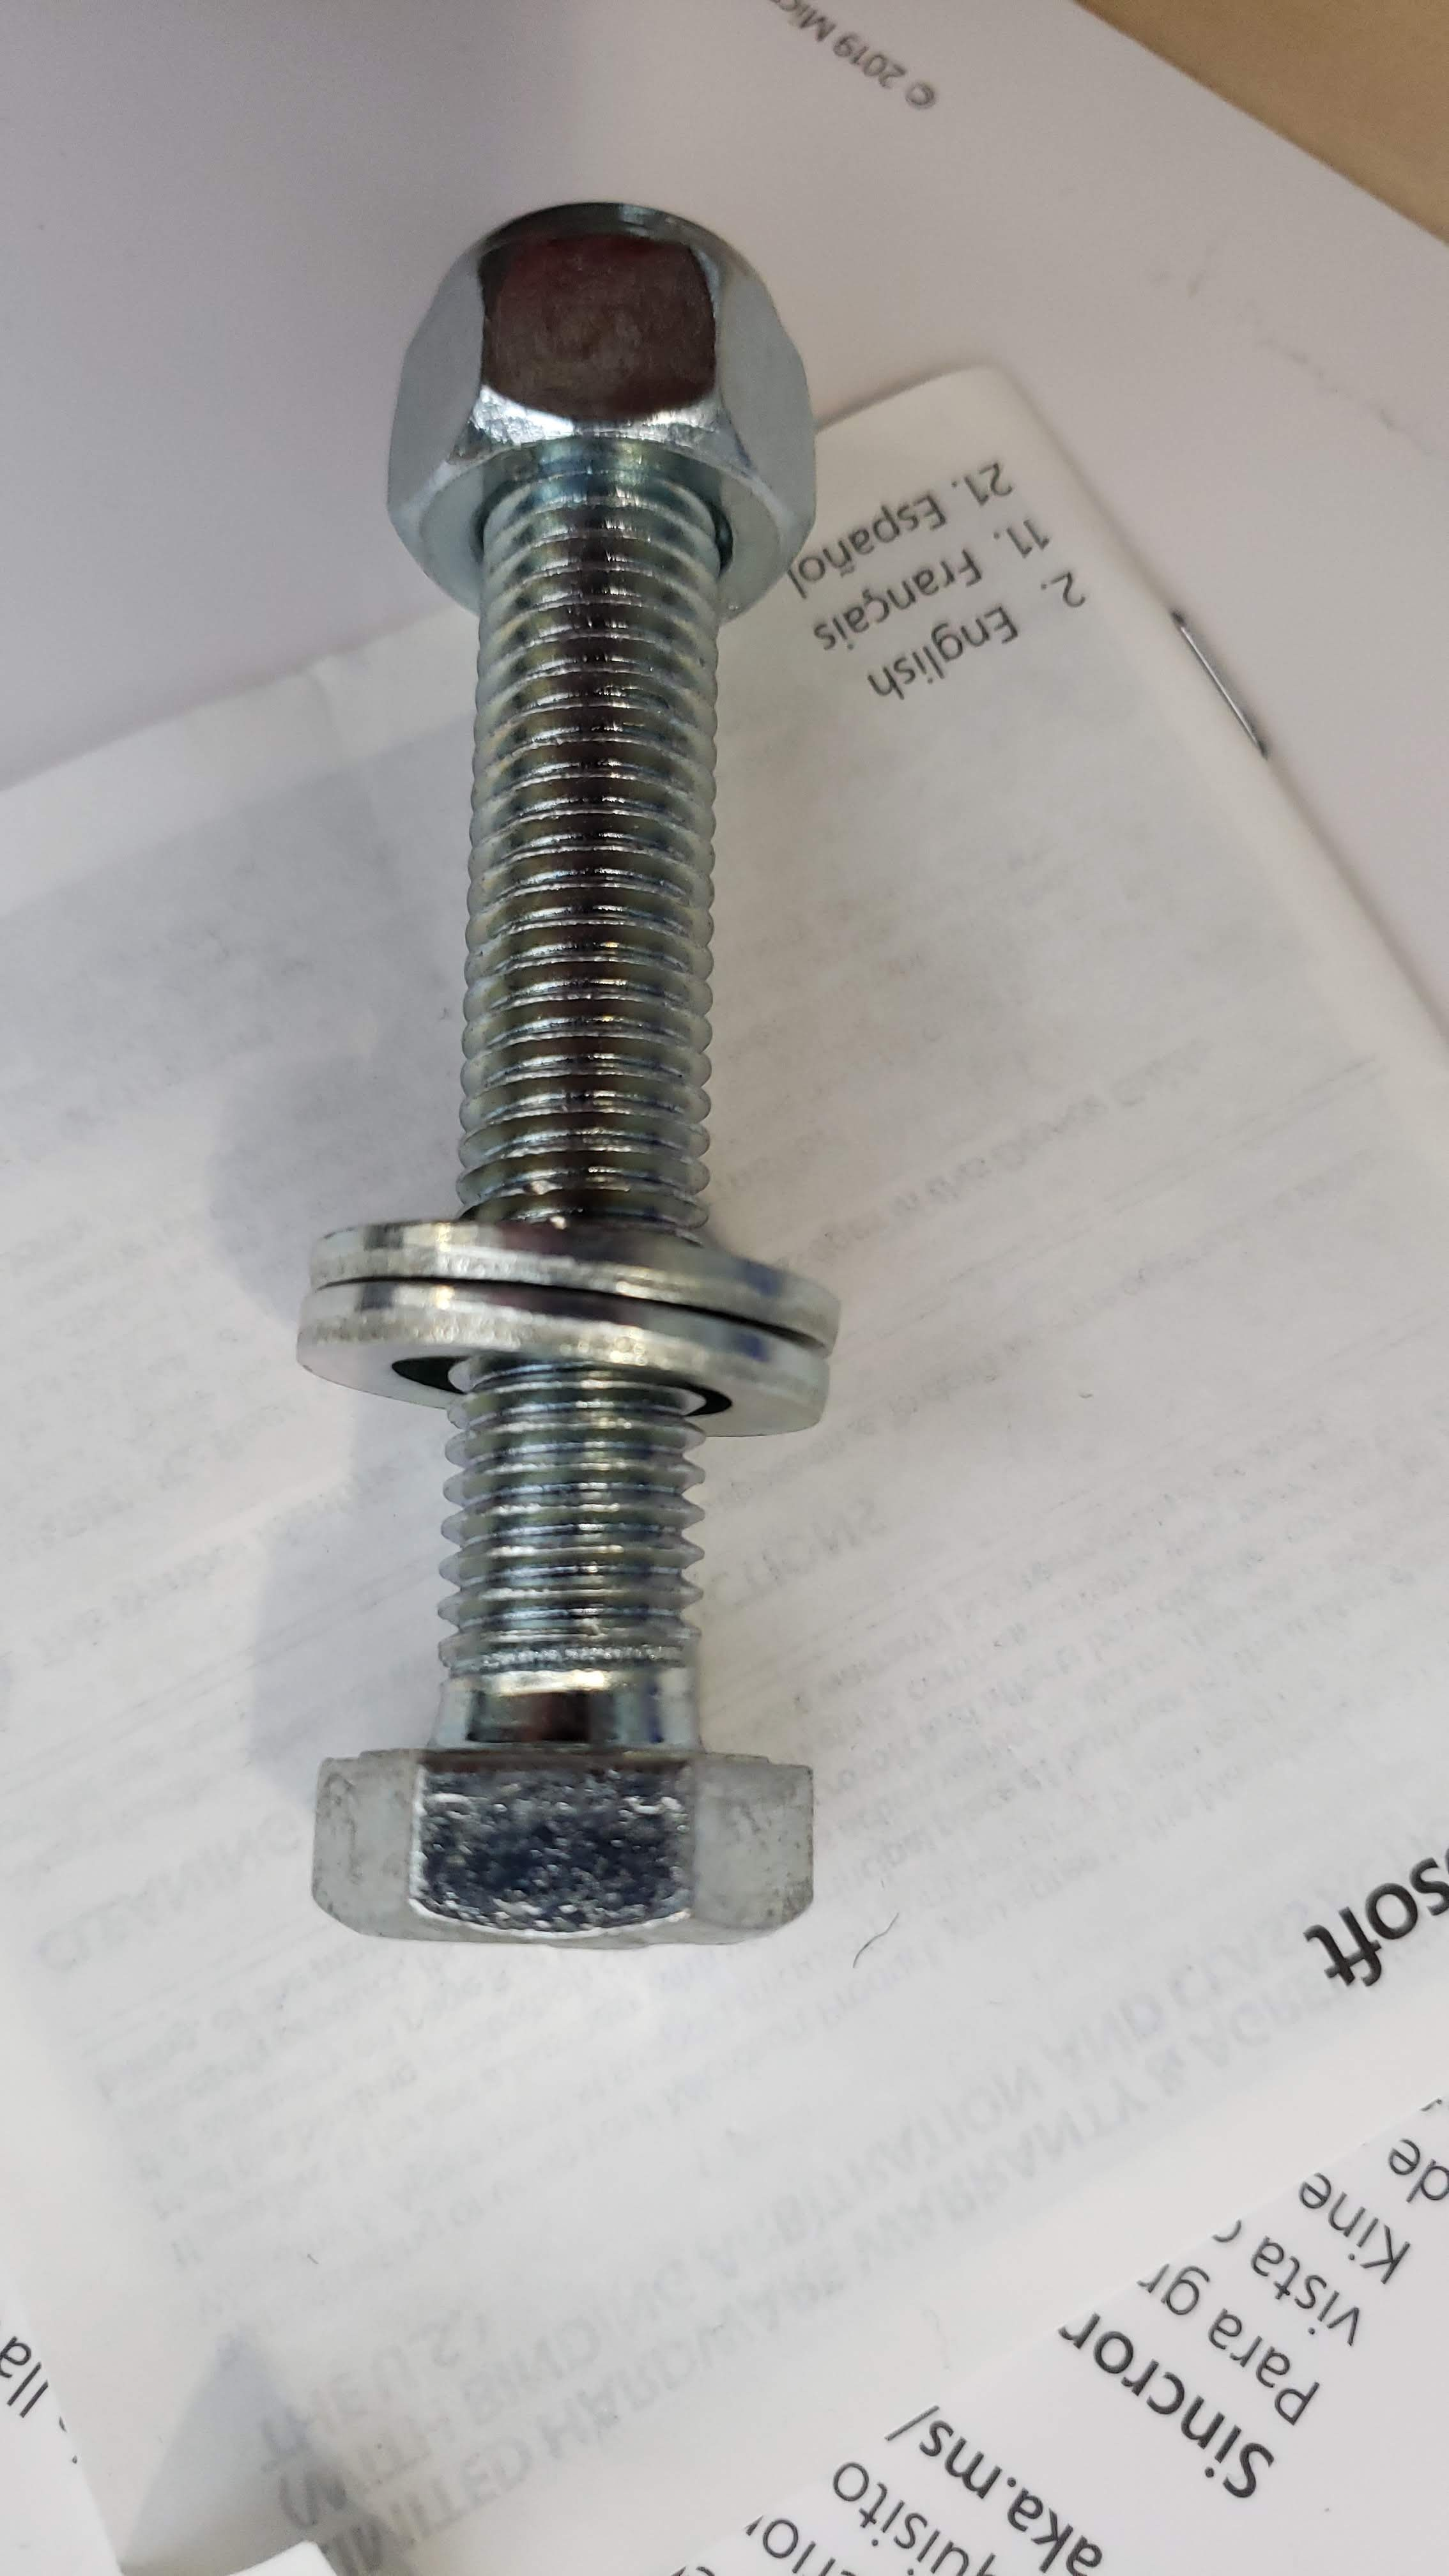FinishedAssembly: (180, 108, 1046, 2139)
